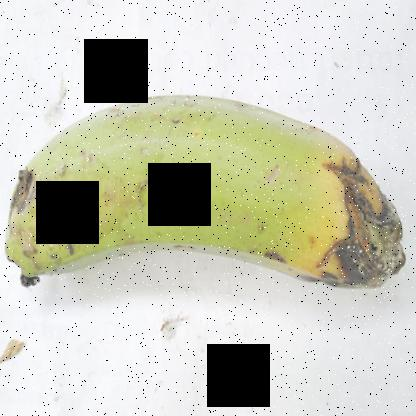rotten: (286, 112, 416, 345)
unripe: (10, 72, 314, 317)
